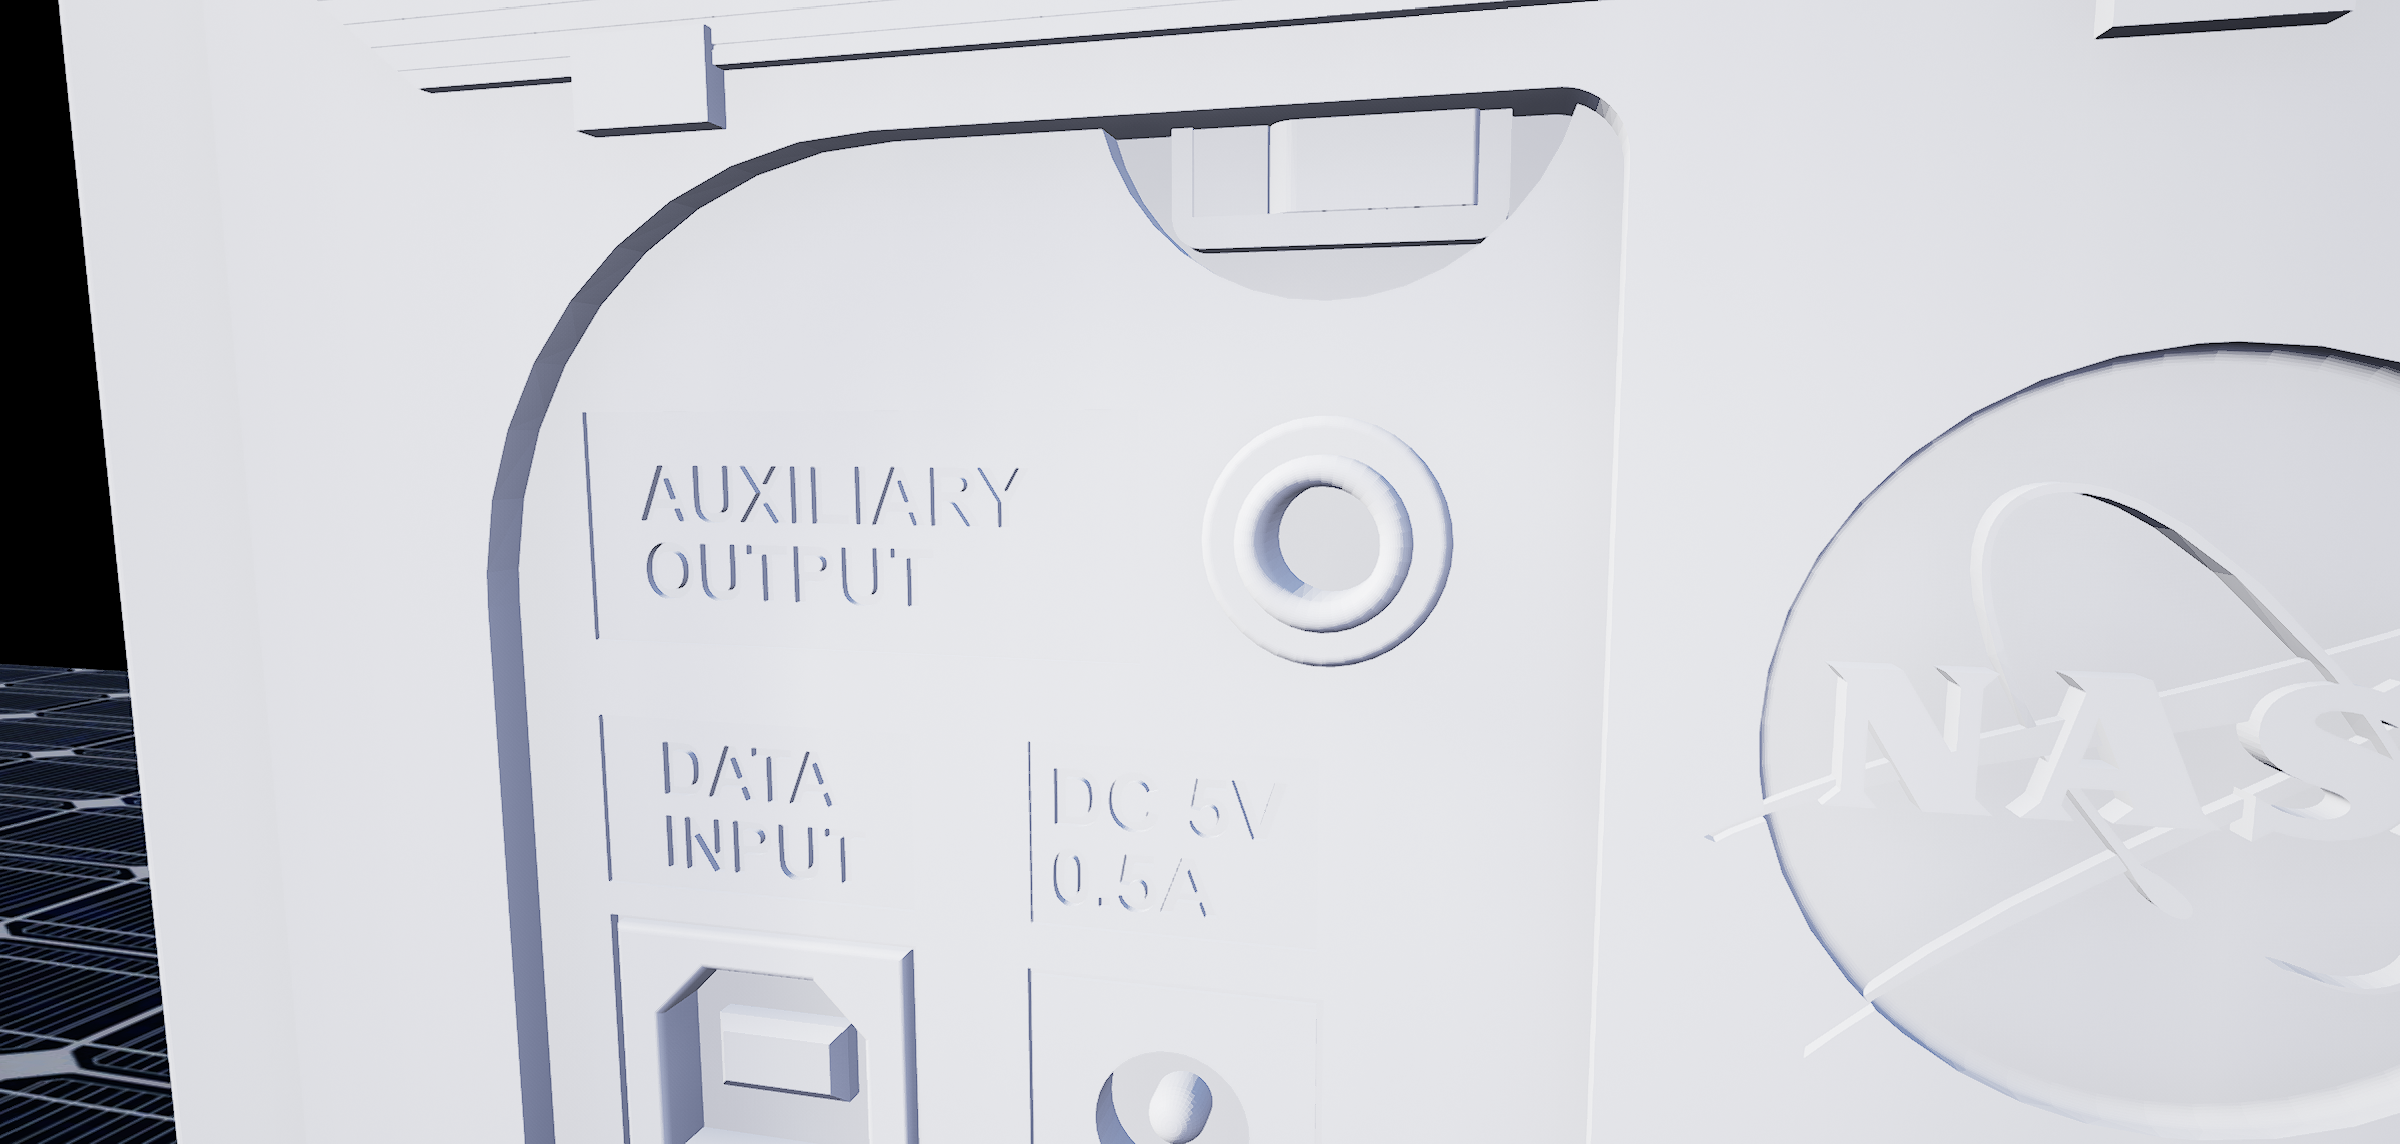aux: (1180, 400, 1459, 698)
dc: (1081, 1032, 1270, 1144)
usb: (644, 951, 883, 1144)
